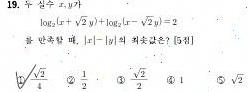choice: (15, 71, 28, 90)
not-choice: (215, 75, 226, 86), (65, 75, 76, 85), (115, 75, 126, 85), (165, 75, 176, 85)
